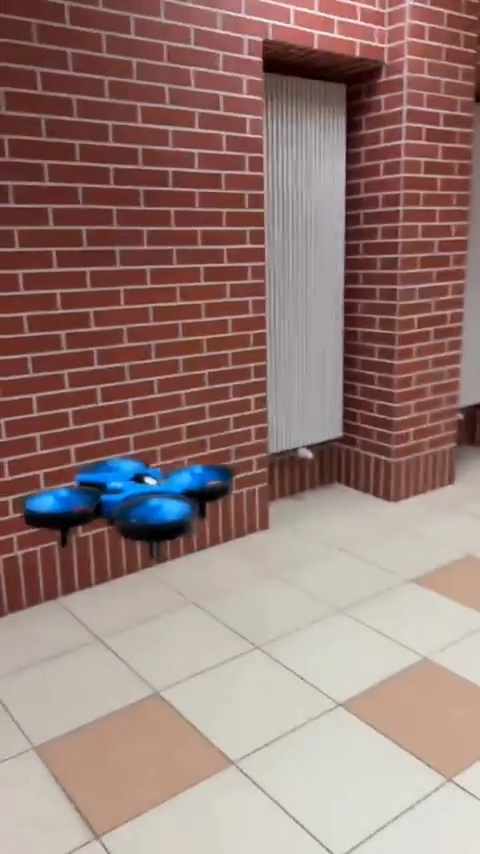drone: (23, 460, 231, 548)
